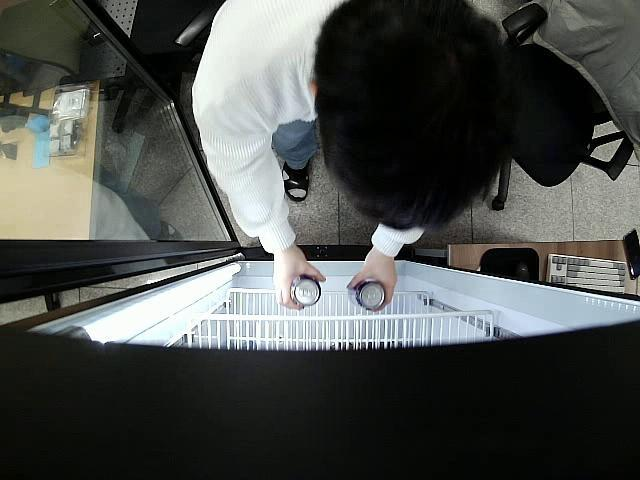14_welchsGrape: (290, 275, 323, 310), (354, 280, 387, 310)
